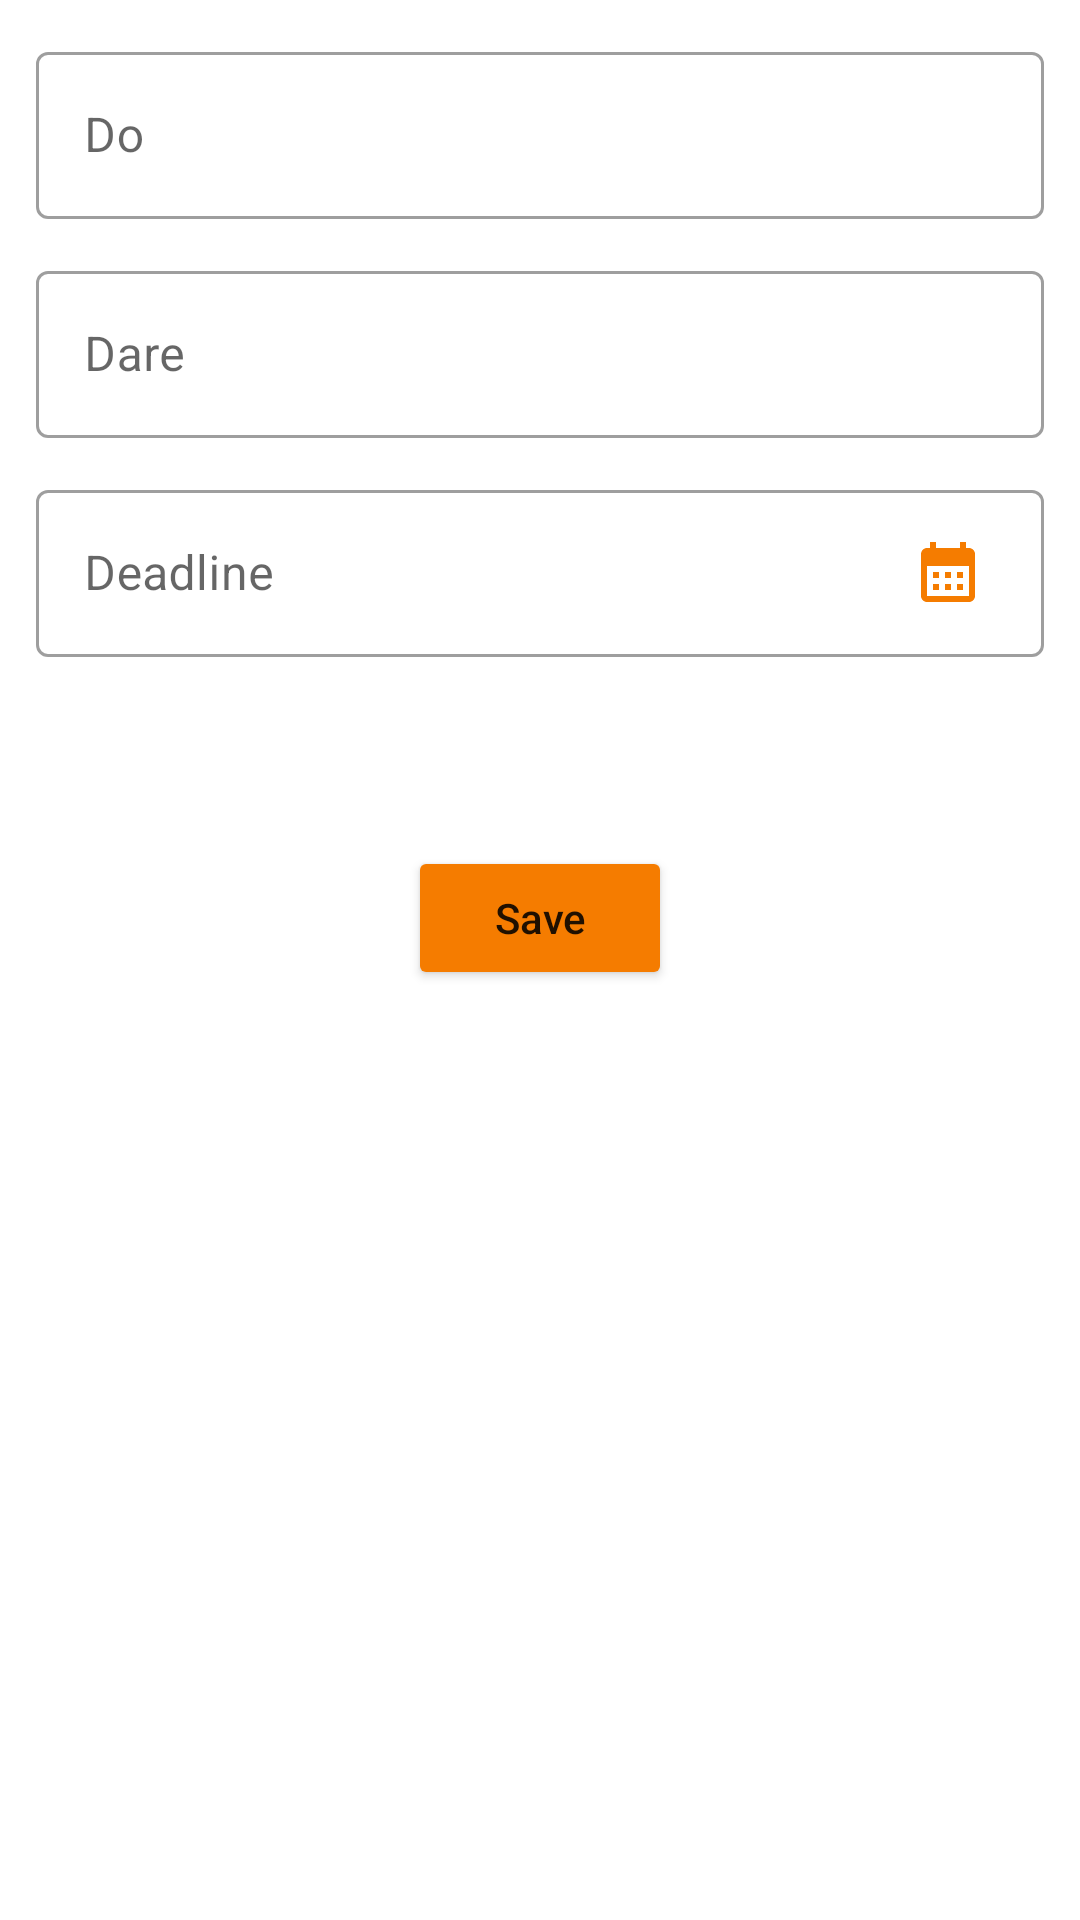

Named icons in this screenshot (1080px×1920px) and their centers, (x,y):
calendar month: (948,572)
